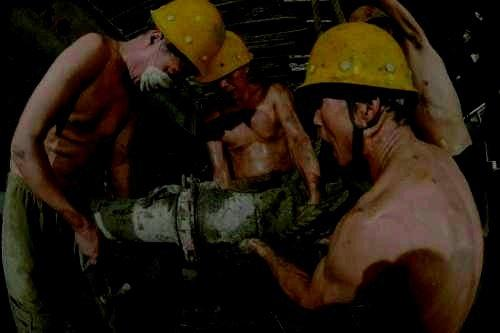helmet: (294, 21, 420, 168), (130, 1, 226, 83), (194, 30, 255, 100)
